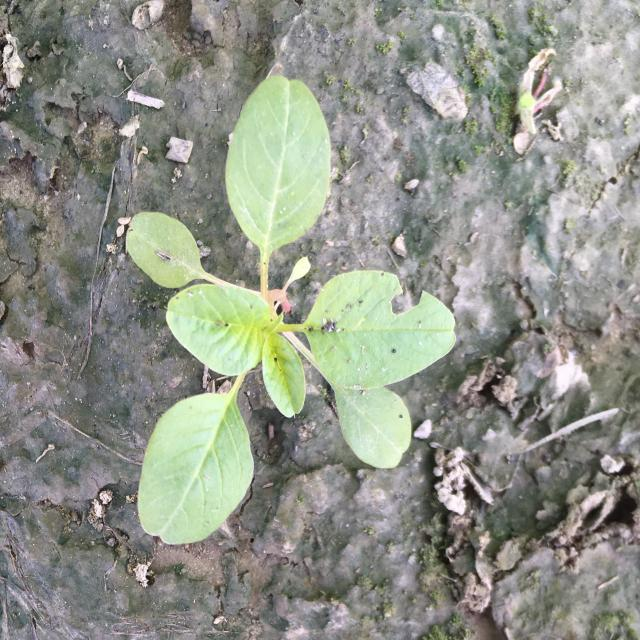PalmerAmaranth: (126, 76, 457, 546)
